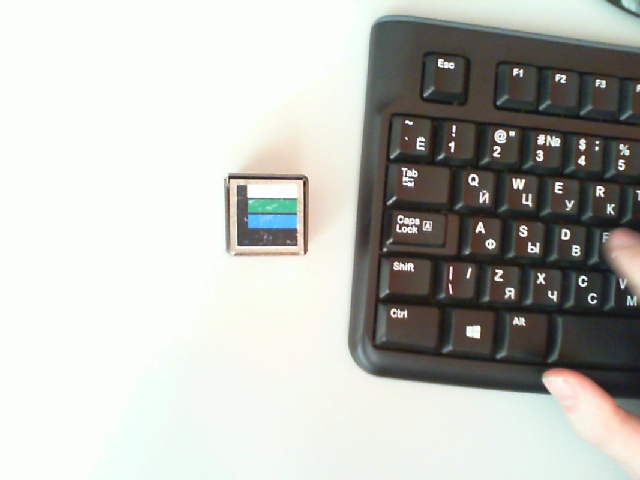square: (236, 183, 298, 248)
